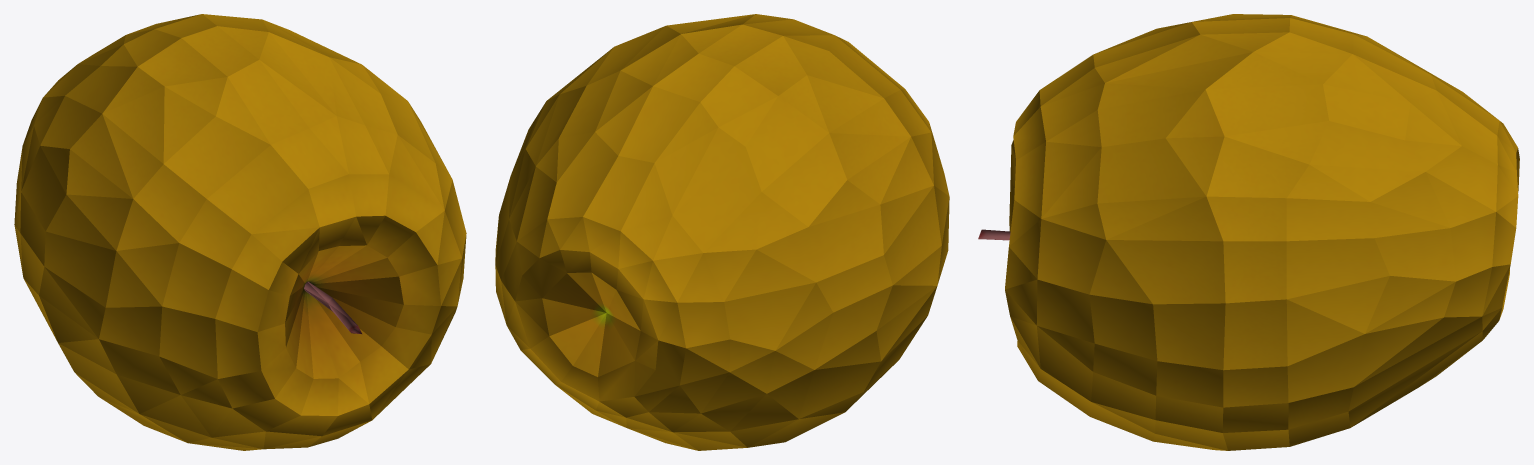
Rendered from MeshAppleB9_0.obj.
3 renders of one model, left to right at view 1: azimuth 30°, elevation 25°; view 2: azimuth 150°, elevation 25°; view 3: azimuth 270°, elevation 25°, orthographic. The views are drawn at different scales.
Visible parts, largest first — view 1: AppleB9; view 2: AppleB9; view 3: AppleB9.
Part boxes in pixels (left/top/right/bottom): AppleB9: left=14, top=14, right=466, bottom=450; AppleB9: left=495, top=14, right=949, bottom=450; AppleB9: left=978, top=14, right=1519, bottom=450.
Bounding box in the file's own units: 0.0976 × 0.0969 × 0.1174.
